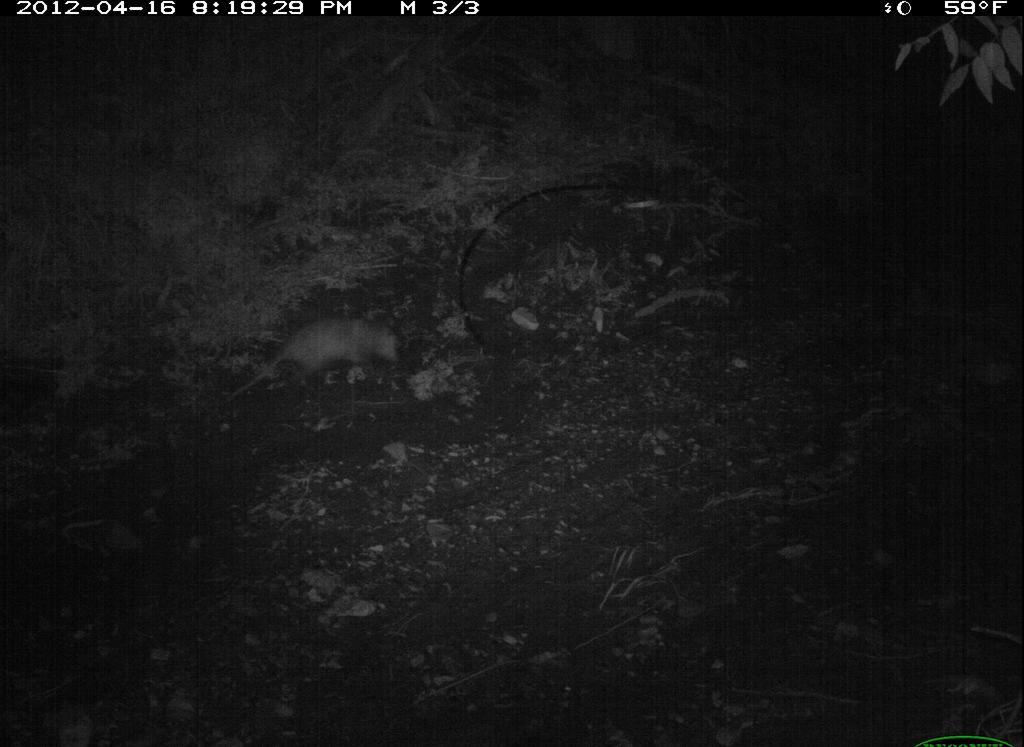opossum: (204, 304, 425, 418)
